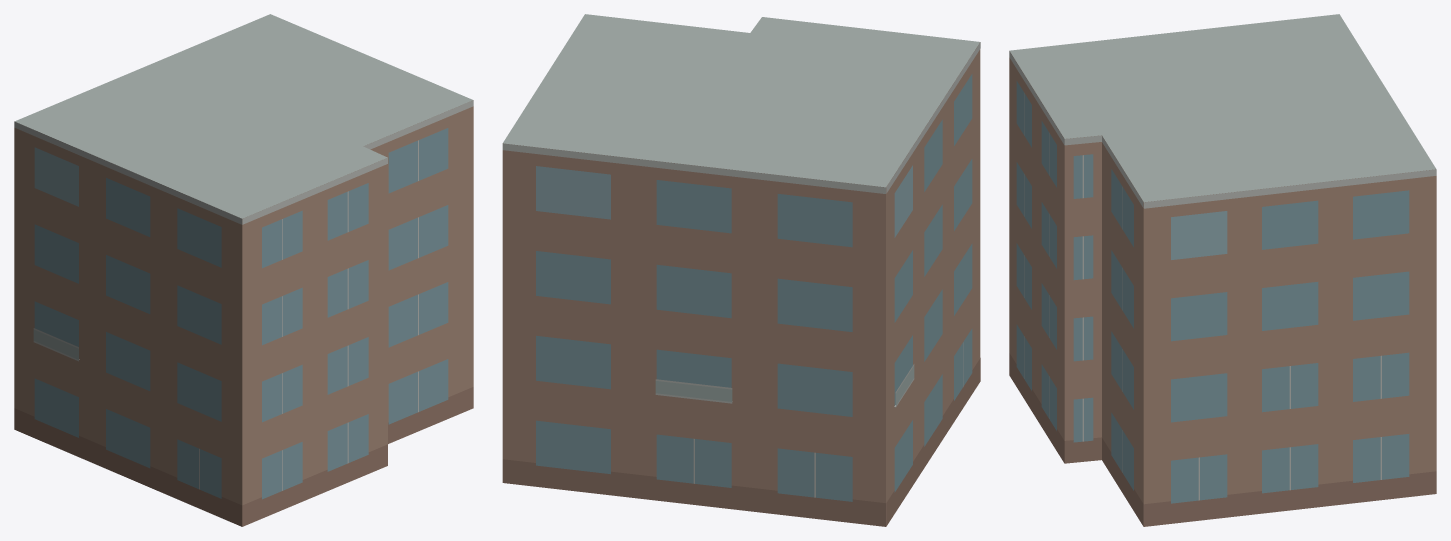
File: survey-upis-32711811.glb
3 views of the same model, side by side, from view 1: azimuth 30°, elevation 25°; view 2: azimuth 150°, elevation 25°; view 3: azimuth 270°, elevation 25° (orthographic). The views are drawn at different scales.
Parts seen in each view (by area): view 1: survey-upis-32711811.tmp; view 2: survey-upis-32711811.tmp; view 3: survey-upis-32711811.tmp.
Boxes of the visible parts, left/top/right/bottom form: survey-upis-32711811.tmp: left=14, top=14, right=473, bottom=526; survey-upis-32711811.tmp: left=502, top=14, right=980, bottom=526; survey-upis-32711811.tmp: left=1009, top=14, right=1436, bottom=526.
Size of the model in its own units: 15.18 by 12.2 by 14.56.
